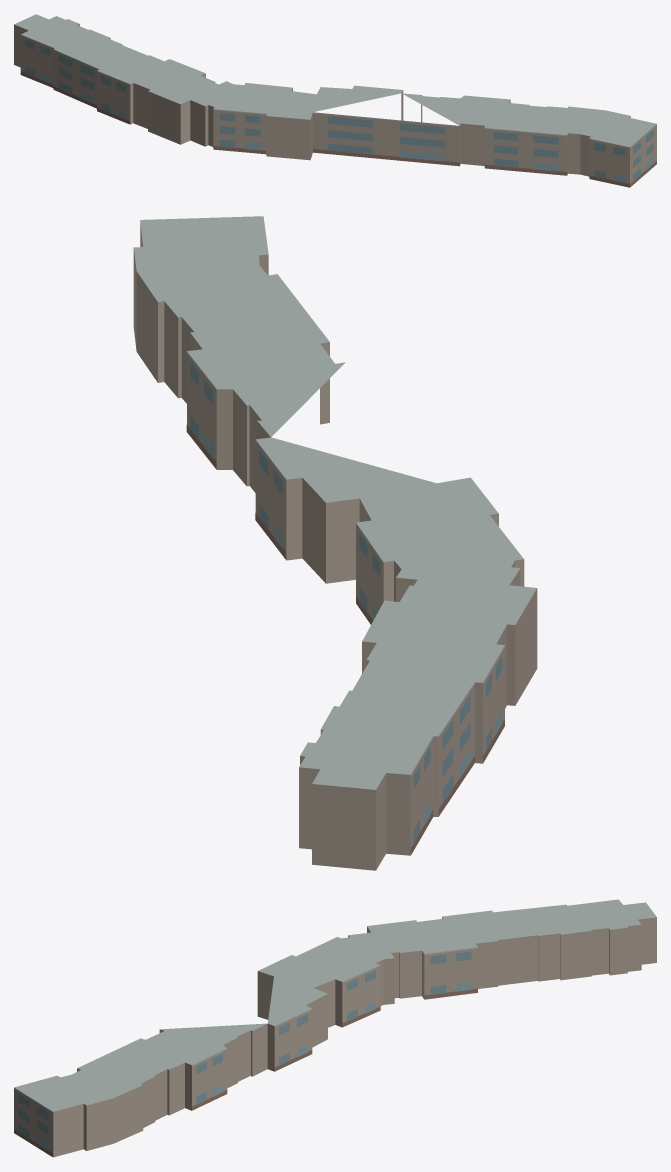
Rendered from survey-upis-32616455.glb.
The picture shows the model from 3 angles, top to bottom: view 1: azimuth 30°, elevation 25°; view 2: azimuth 150°, elevation 25°; view 3: azimuth 270°, elevation 25°; orthographic projection. The views are drawn at different scales.
Visible parts, largest first — view 1: survey-upis-32616455.tmp; view 2: survey-upis-32616455.tmp; view 3: survey-upis-32616455.tmp.
Part boxes in pixels (box(x1,y1,x2,y2)): survey-upis-32616455.tmp: box(14, 14, 656, 187); survey-upis-32616455.tmp: box(133, 216, 537, 870); survey-upis-32616455.tmp: box(14, 899, 656, 1157).
Bounding box in the file's own units: 102 × 10.2 × 130.
